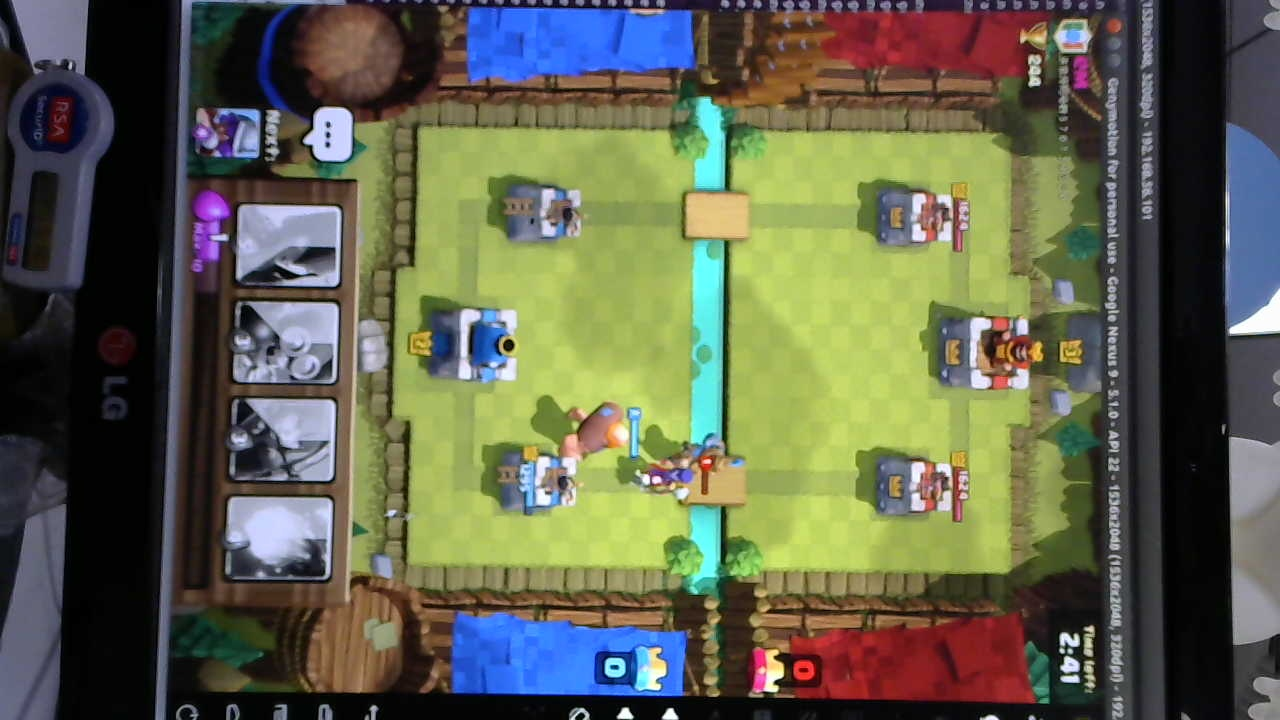arena: (501, 175, 589, 246), (499, 449, 583, 515)
earena: (874, 452, 954, 520), (877, 188, 955, 252)
eking: (936, 310, 1040, 392)
giant: (565, 403, 628, 457)
king: (428, 307, 524, 384)
prince: (665, 432, 744, 475)
witch: (638, 461, 697, 499)
